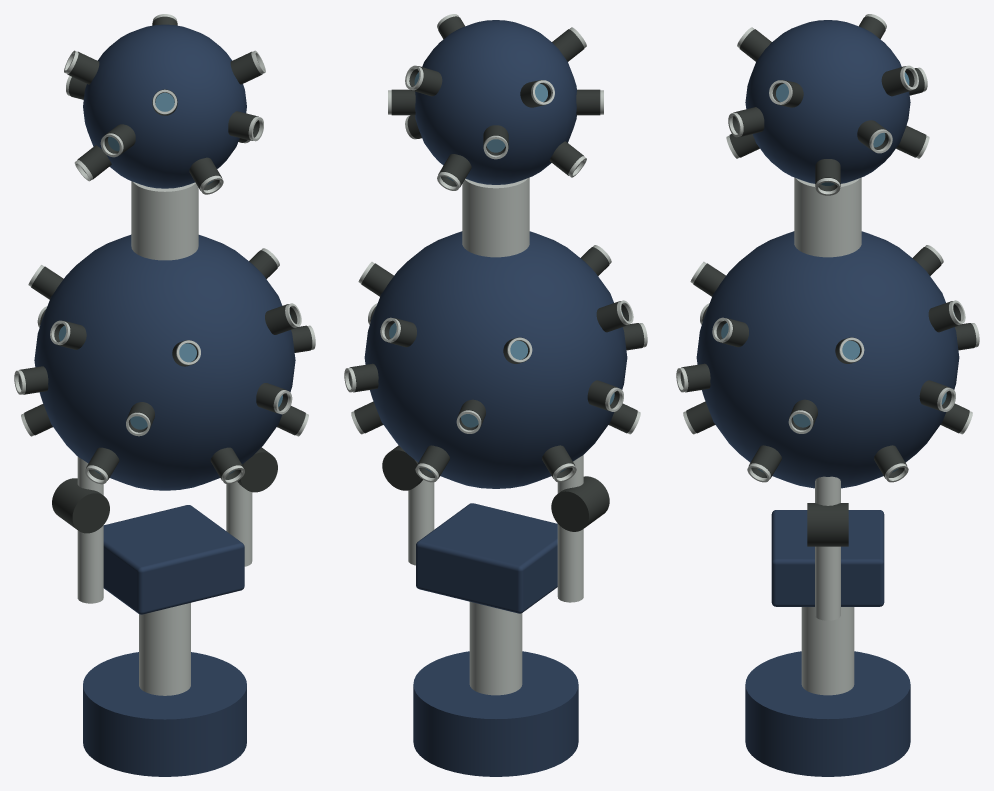
File: planetarium-and-optical-observatory-star-projector-11d0a1a6__31825.glb
The picture shows the model from 3 angles, left to right: view 1: azimuth 30°, elevation 25°; view 2: azimuth 150°, elevation 25°; view 3: azimuth 270°, elevation 25°; orthographic projection.
Parts seen in each view (by area): view 1: star-projector; view 2: star-projector; view 3: star-projector.
Boxes of the visible parts, <box> form: star-projector: <box>14,14,315,776</box>; star-projector: <box>344,14,647,776</box>; star-projector: <box>676,14,979,776</box>.
Size of the model in its own units: 0.8346 by 2.1 by 0.8079.
